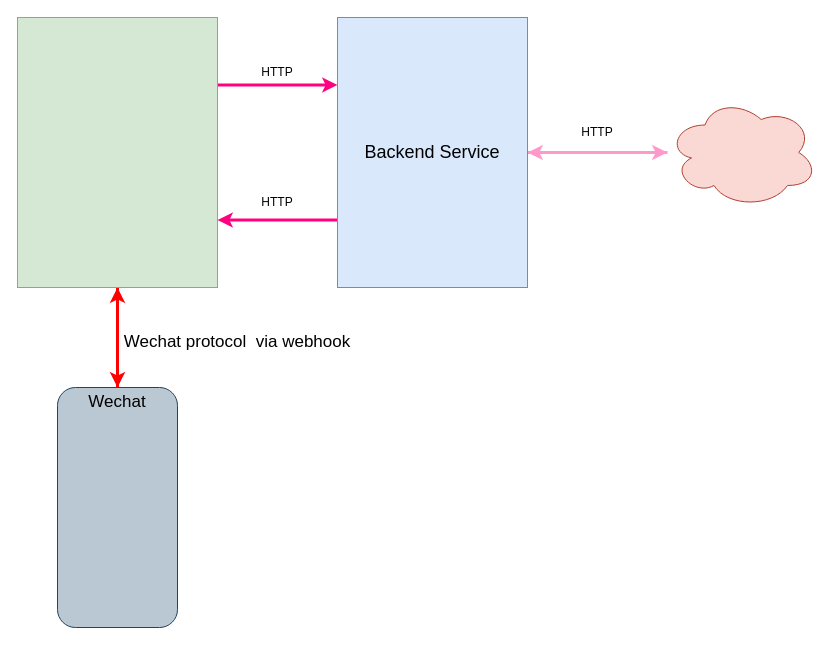
Some shapes in this 835 by 645 pixel diagram are drawn without their labels. Each missing label, with the centre of its shape:
"Kimi" belongs at (742,152).
"Wechaty and Webhook" belongs at (117,152).
